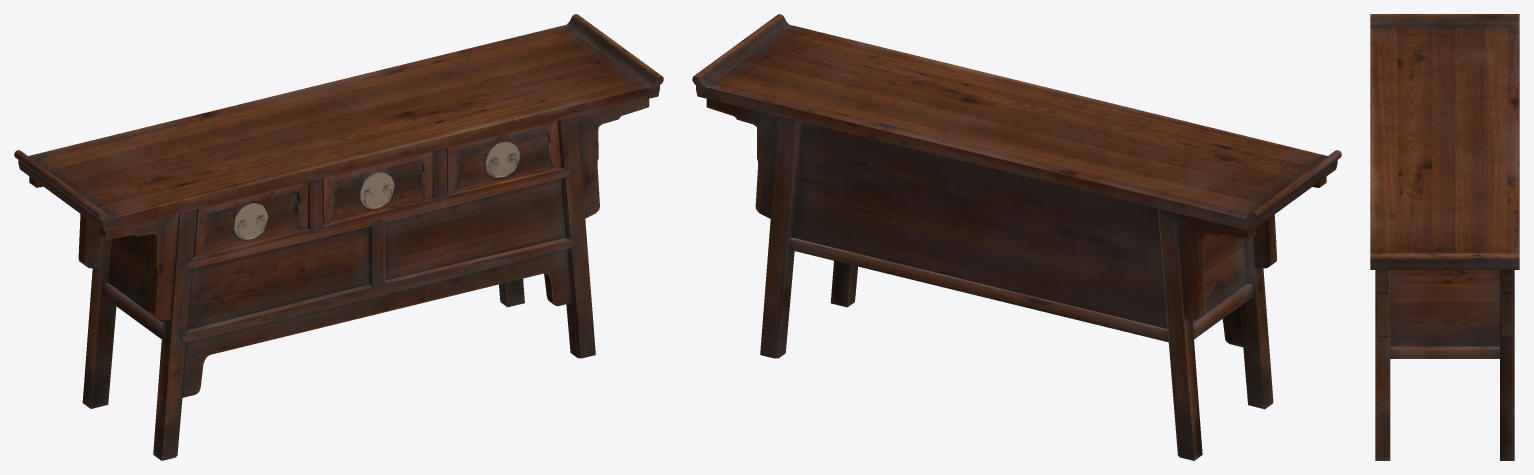
File: chinese_commode.glb
3 views of the same model, side by side, from view 1: azimuth 30°, elevation 25°; view 2: azimuth 150°, elevation 25°; view 3: azimuth 270°, elevation 25° (orthographic). The views are drawn at different scales.
Parts seen in each view (by area): view 1: chinese_commode; view 2: chinese_commode; view 3: chinese_commode.
Part boxes in pixels (box(x1,y1,x2,y2)): chinese_commode: box(14, 14, 663, 460); chinese_commode: box(692, 14, 1341, 460); chinese_commode: box(1370, 14, 1519, 460).
Bounding box in the file's own units: 4.49 × 2.02 × 1.17.
Materials: 1 (1 with a texture image).
